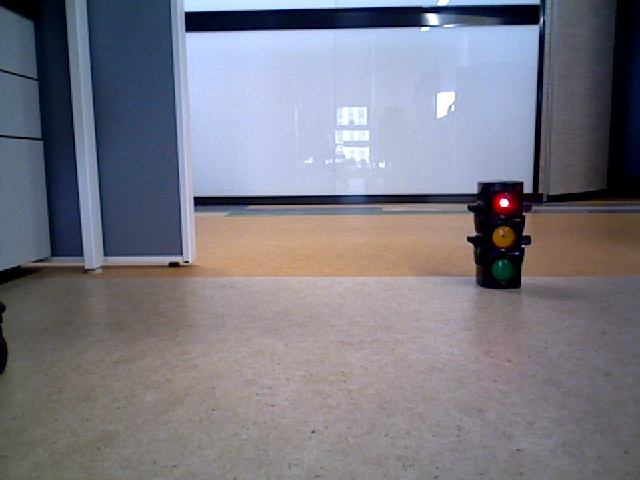red: (476, 183, 517, 286)
